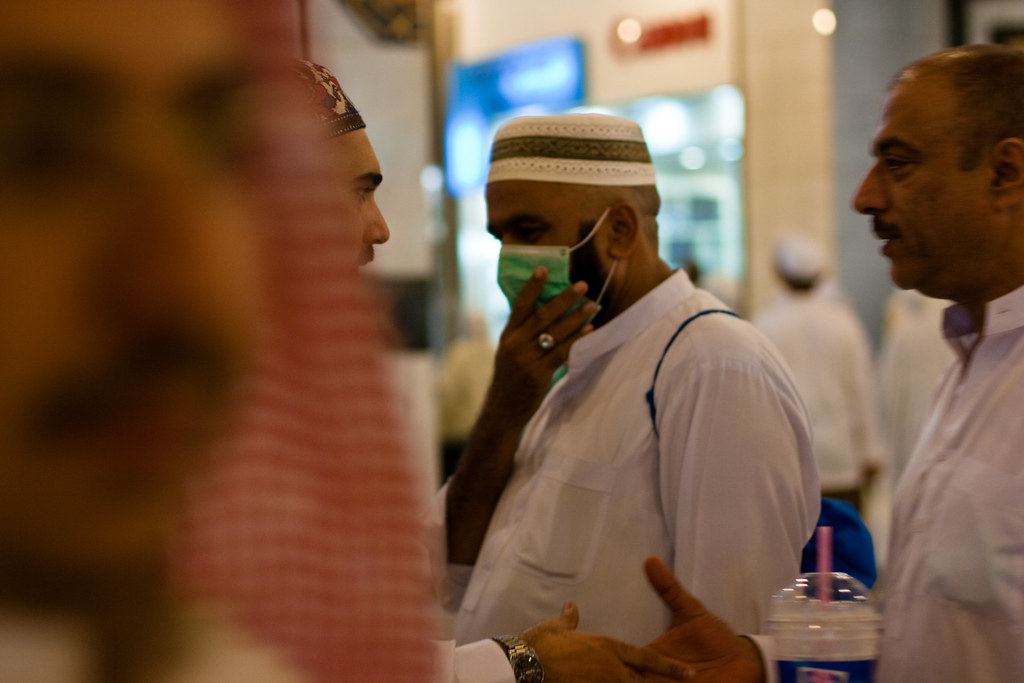mask: (482, 248, 581, 313)
